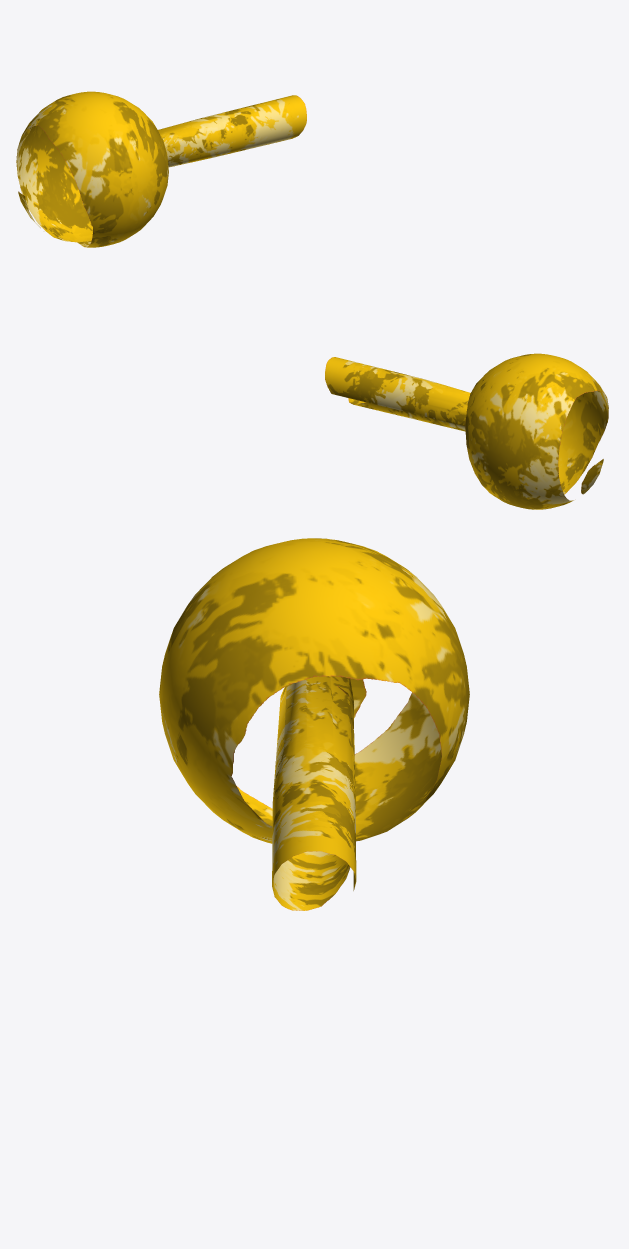
The model's file is tank_yellow_barrel.obj.
3 renders of one model, top to bottom at view 1: azimuth 30°, elevation 25°; view 2: azimuth 150°, elevation 25°; view 3: azimuth 270°, elevation 25°, orthographic. The views are drawn at different scales.
Visible parts, largest first — view 1: Group1; view 2: Group1; view 3: Group1.
Boxes of the visible parts, x1=… form: Group1: x1=16, y1=91, x2=306, y2=247; Group1: x1=325, y1=353, x2=608, y2=509; Group1: x1=159, y1=538, x2=469, y2=910.
Bounding box in the file's own units: 25.19 × 5.94 × 5.88.
